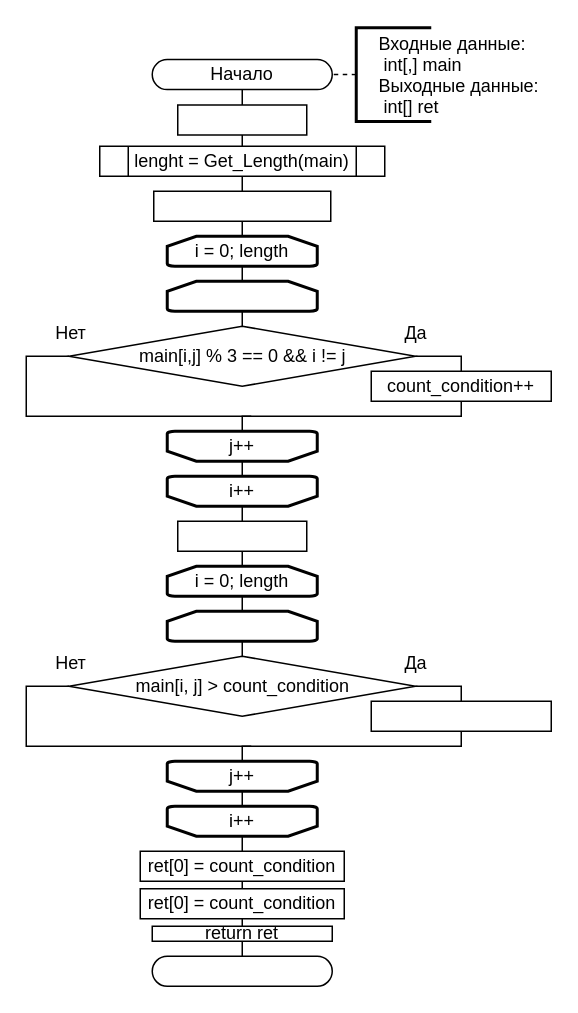
The diagram is 578 pixels wide and 1013 high, and some of its shapes have lost their labels. The shapes that lost their labels are listed below. From the top down, each one's centre as x and y in pixels, then its label:
(x=241, y=119): ret = new int[2]
(x=241, y=205): count_condition = 0
(x=241, y=295): j = 0 + i; length
(x=241, y=535): array_size = 0
(x=241, y=625): j = 0; length
(x=460, y=715): array_size++
(x=241, y=970): Конец
